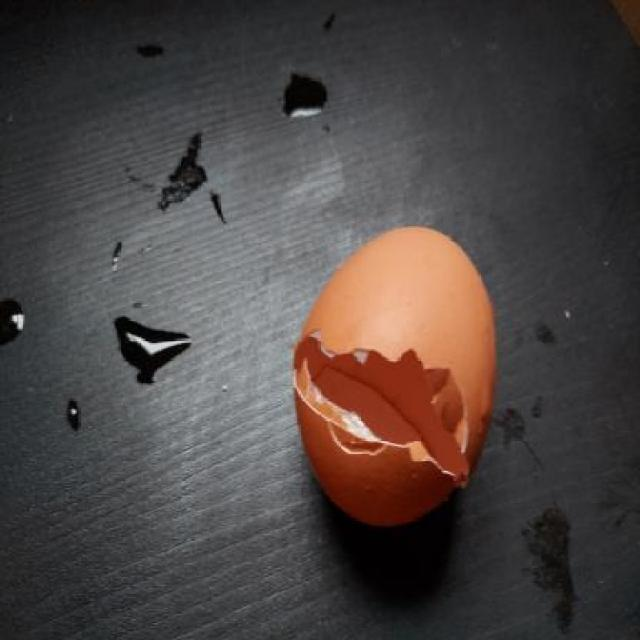biodegradable: (286, 218, 492, 528)
